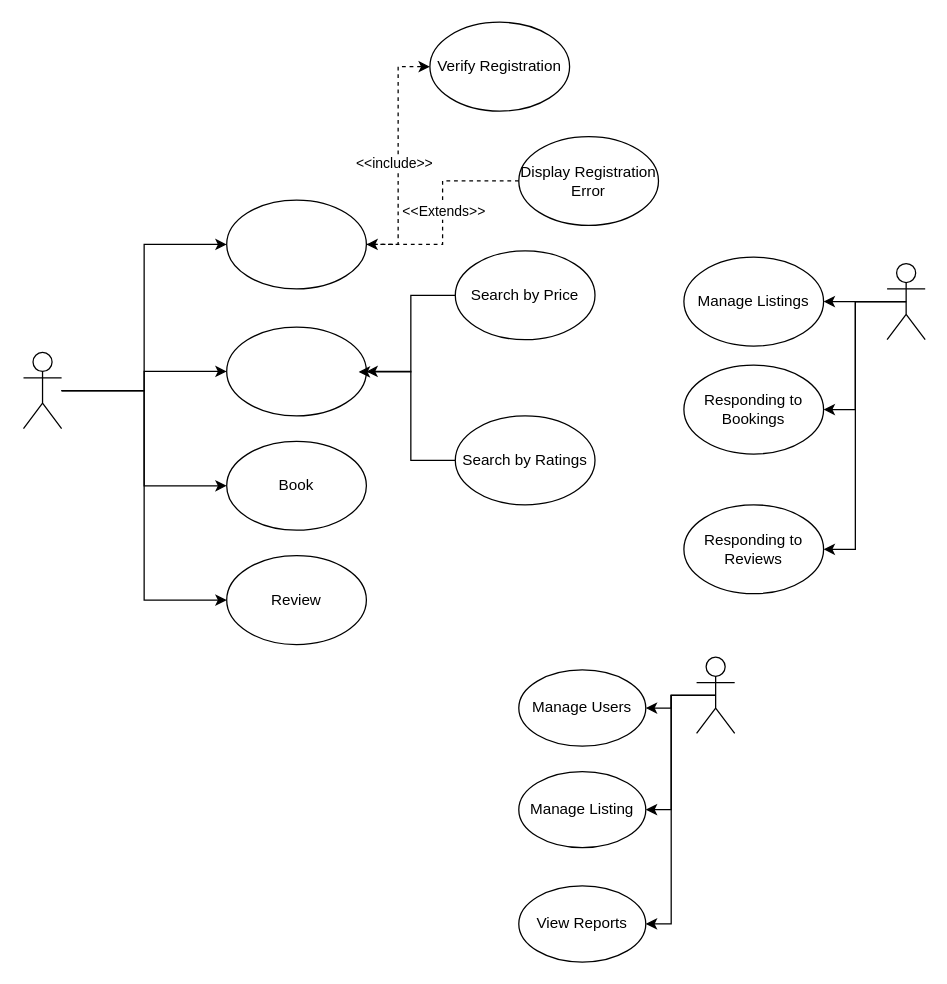
The diagram is 947 pixels wide and 984 high, and some of its shapes have lost their labels. Each missing label, with the centre of its shape:
Admin: the point at 715,694
Guest: the point at 42,390
Host: the point at 905,301
Register: the point at 295,244
Search: the point at 295,371
